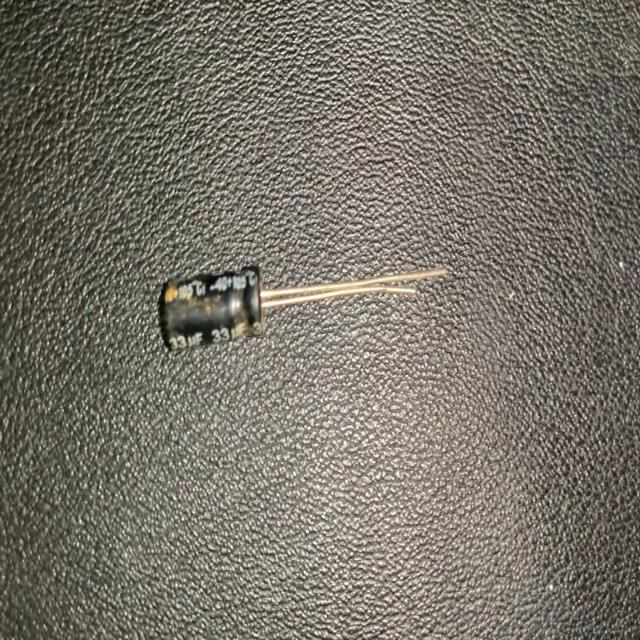capacitor: (156, 267, 448, 357)
rust: (233, 280, 255, 345), (188, 294, 226, 326), (164, 276, 180, 306)
